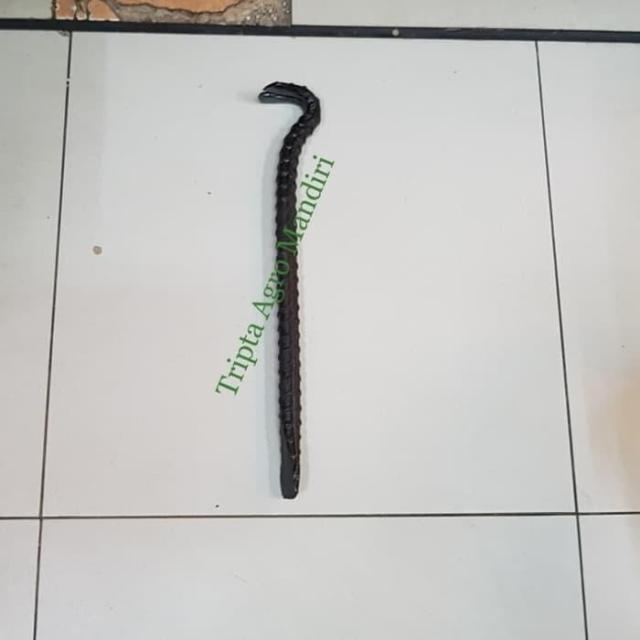Linggis: (259, 79, 327, 503)
